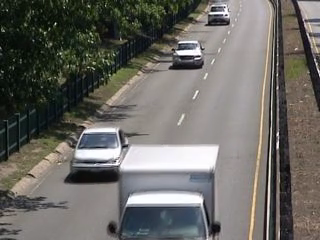car: (67, 126, 137, 176), (167, 38, 207, 71), (205, 2, 232, 28)
truck: (115, 139, 222, 240)
